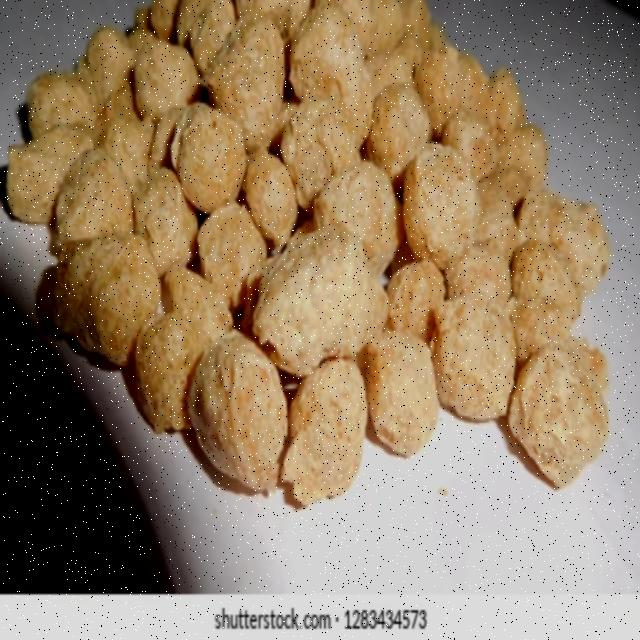Soy Chunks: (122, 46, 600, 461)
